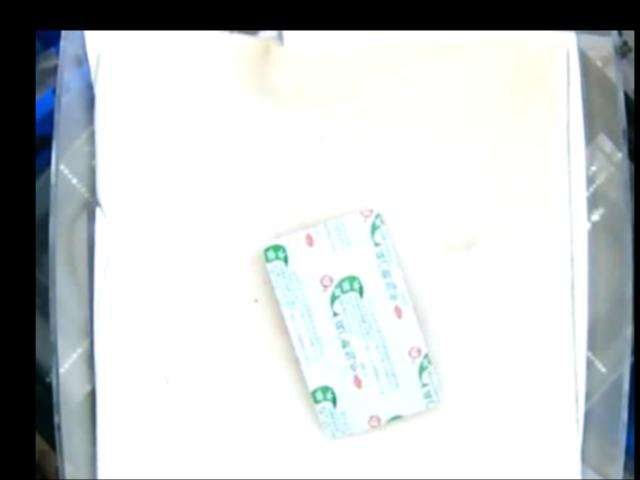Medicine: (268, 208, 435, 439)
